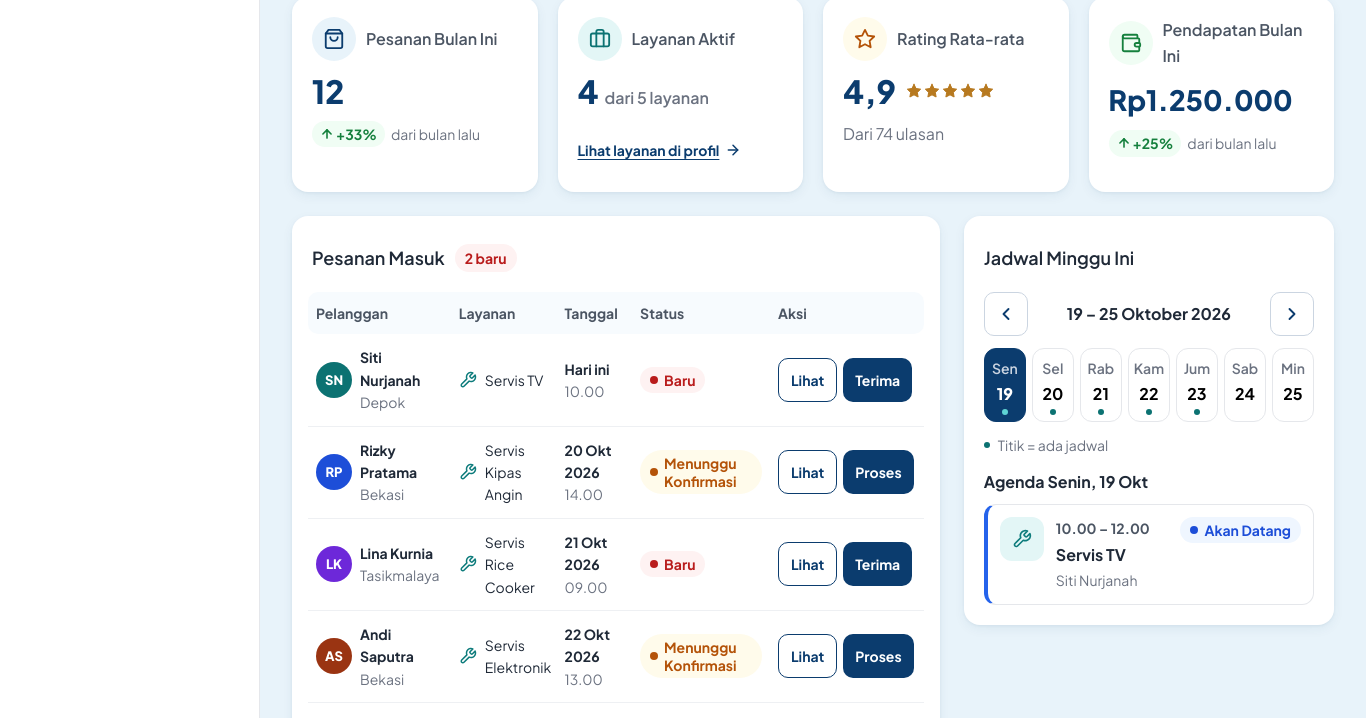
Dashboard Penyedia › jadwal mingguan: agenda hari terpilih & navigasi minggu
(page scrolled)
Expected: the text "19 – 25 Oktober 2026" is shown, [1067,301,1231,327]
Expected: the text "Servis TV" is shown, [1056,544,1126,565]
What coordinates should you click on to do the following:
click the button with aria-label "selasa 20 okt"
I would click on:
 (1053, 385)
Its box is [1032,348,1074,422].
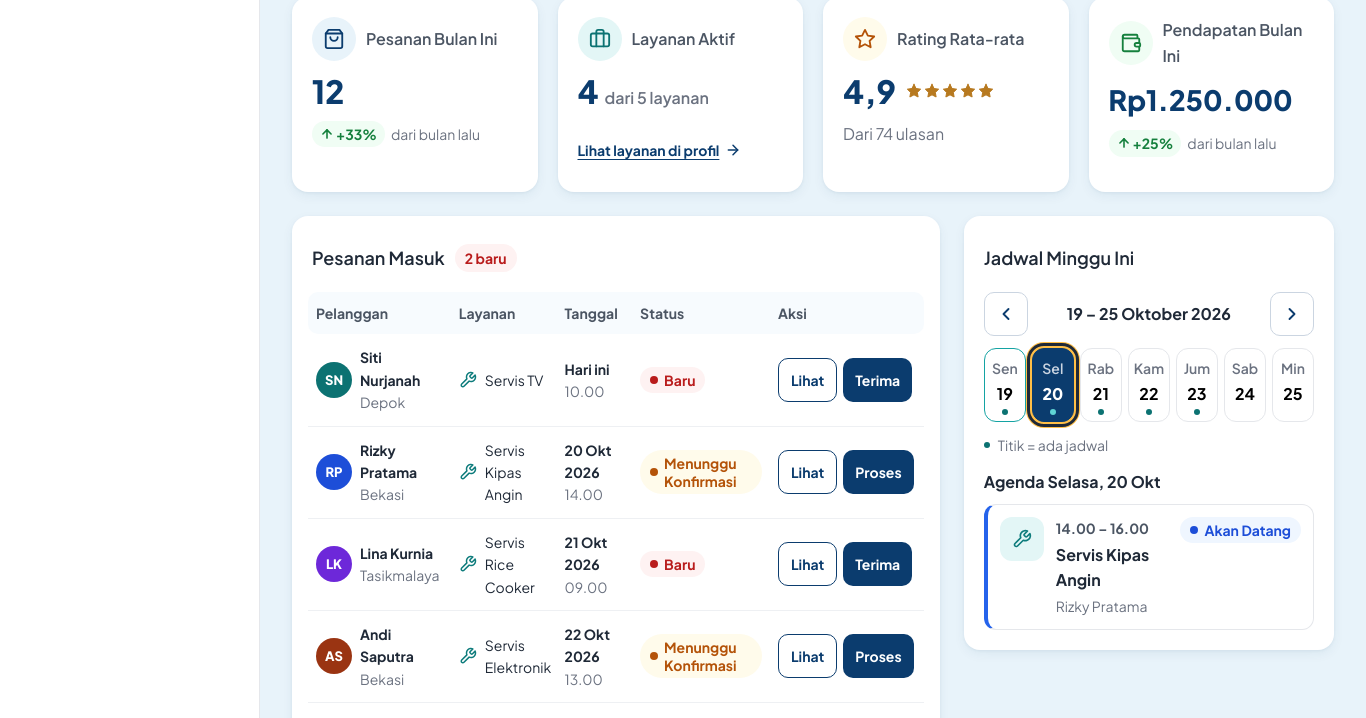
Now the text "Servis Kipas Angin" is shown, box [1056,544,1149,590]
What coordinates should you click on to do the following:
click the button named "Minggu berikutnya"
I would click on:
 (1292, 314)
Its box is [1270,292,1314,336].
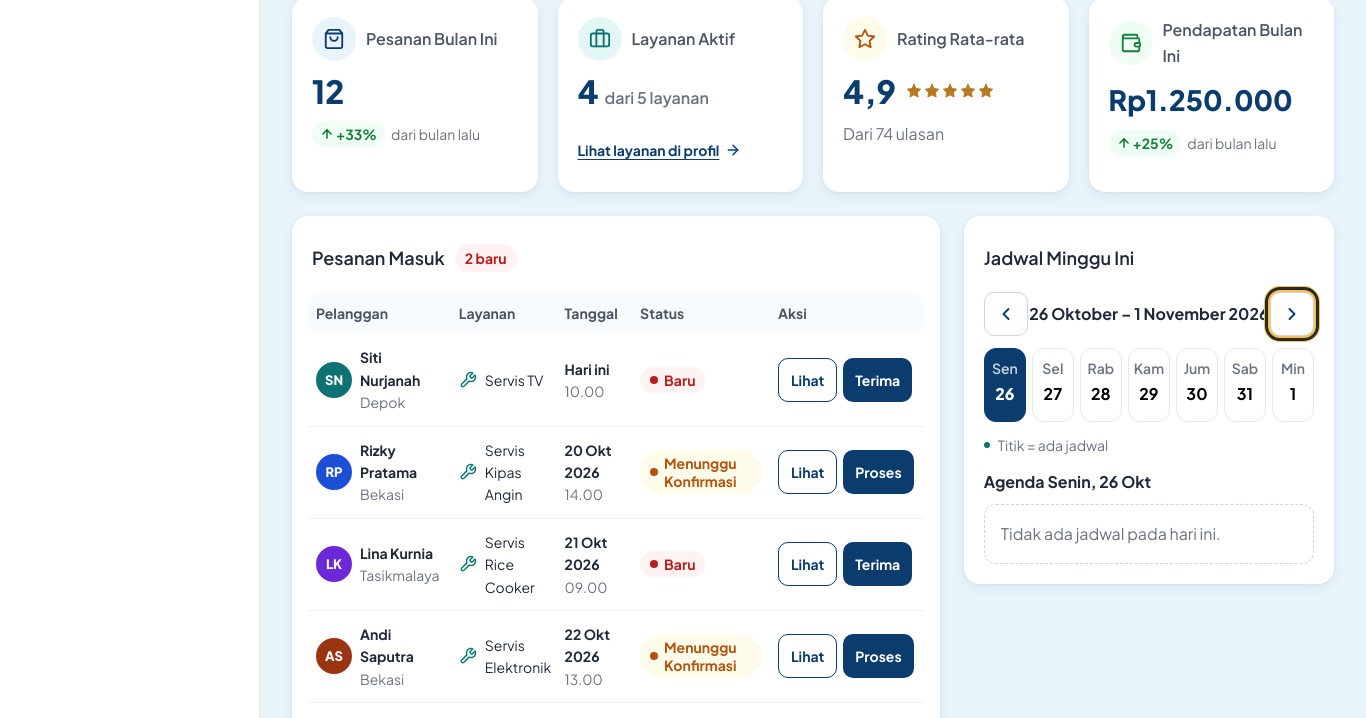
Now the text "26 Oktober – 1 November 2026" is shown, box [1029,301,1269,327]
Now the text "Tidak ada jadwal pada hari ini." is shown, box [984,504,1314,564]
